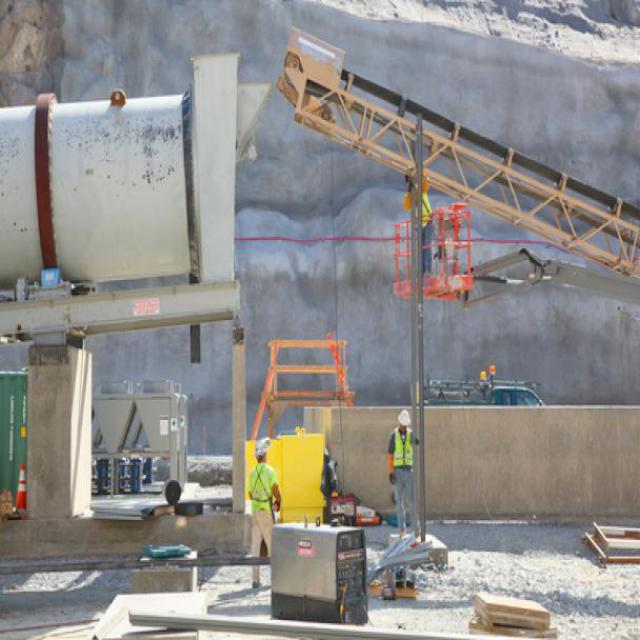helmet: (248, 438, 272, 465), (397, 405, 409, 427)
vest: (243, 460, 277, 511), (389, 430, 417, 473)
